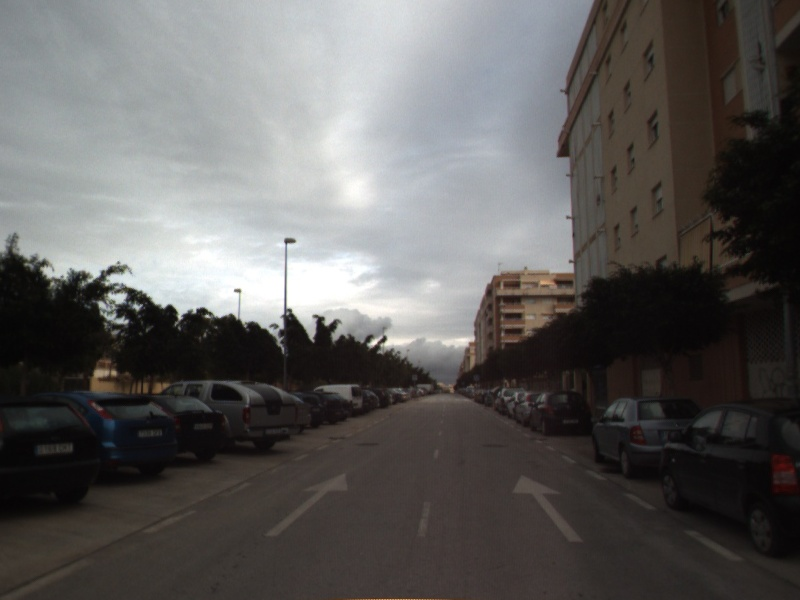STRAIGHT: (262, 471, 350, 539), (510, 472, 586, 544)
